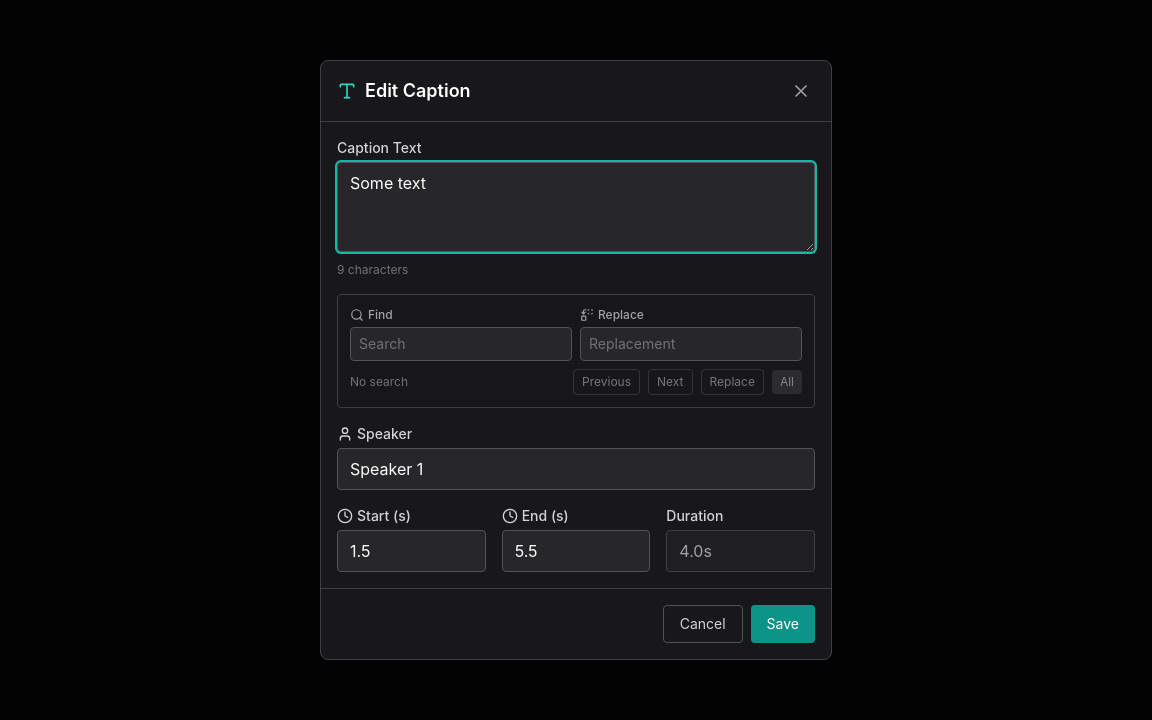
it: CaptionEditor › Save Action › disables save button when text is empty
Clear the text box showing "Some text": (576, 207) [337, 162, 815, 252]
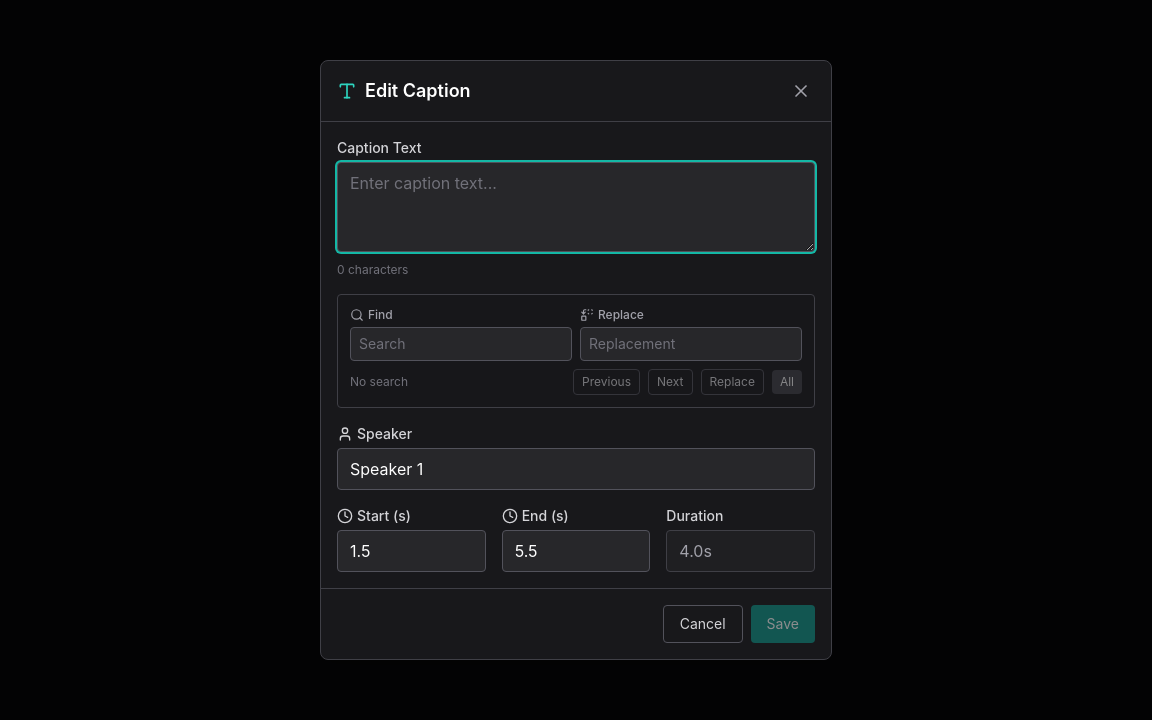
Check: the button "Save" is disabled, box [751, 605, 815, 643]
